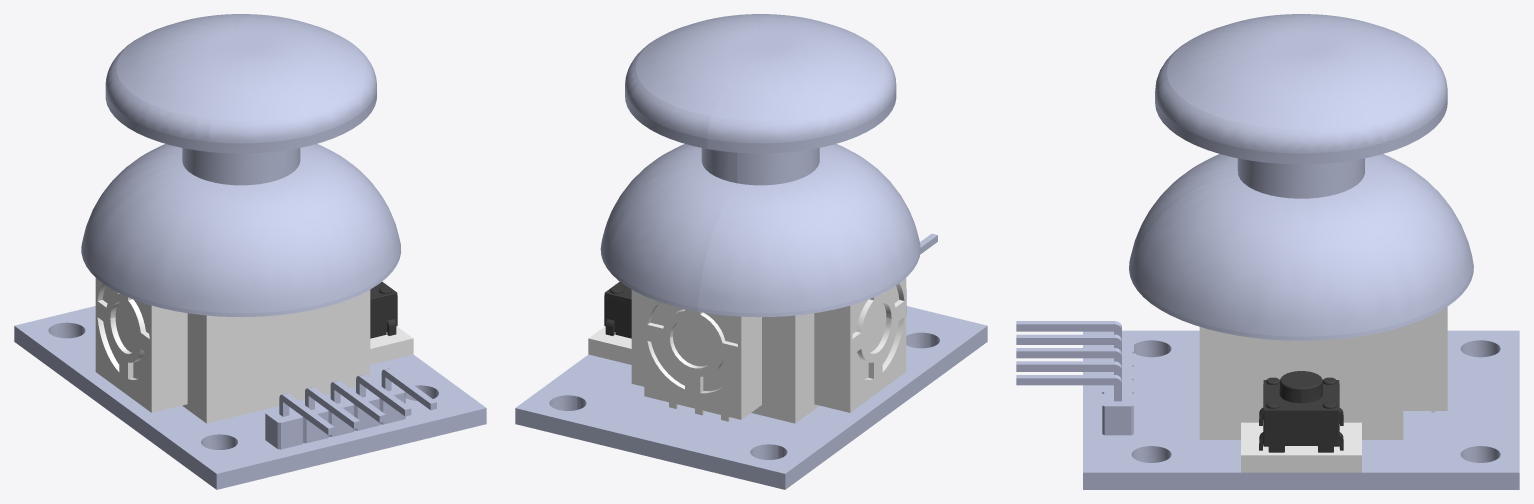
File: Joystick assembly.glb
3 renders of one model, left to right at view 1: azimuth 30°, elevation 25°; view 2: azimuth 150°, elevation 25°; view 3: azimuth 270°, elevation 25°, orthographic. The views are drawn at different scales.
Visible parts, largest first — view 1: joystickhead___, board, Thumb Joystick___, tactileswitch-short; view 2: joystickhead___, Thumb Joystick___, board, tactileswitch-short; view 3: joystickhead___, board, Thumb Joystick___, tactileswitch-short.
Boxes of the visible parts, x1,y1,x2,y2 form: joystickhead___: [81, 14, 401, 316]; board: [14, 306, 486, 489]; Thumb Joystick___: [95, 278, 413, 423]; tactileswitch-short: [370, 281, 397, 338]; joystickhead___: [600, 14, 920, 317]; Thumb Joystick___: [588, 278, 906, 423]; board: [515, 233, 987, 489]; tactileswitch-short: [604, 281, 631, 338]; joystickhead___: [1129, 14, 1473, 340]; board: [1016, 321, 1519, 489]; Thumb Joystick___: [1199, 307, 1447, 472]; tactileswitch-short: [1259, 371, 1343, 452].
Size of the model in its own units: 27.65 by 34.51 by 39.55.
